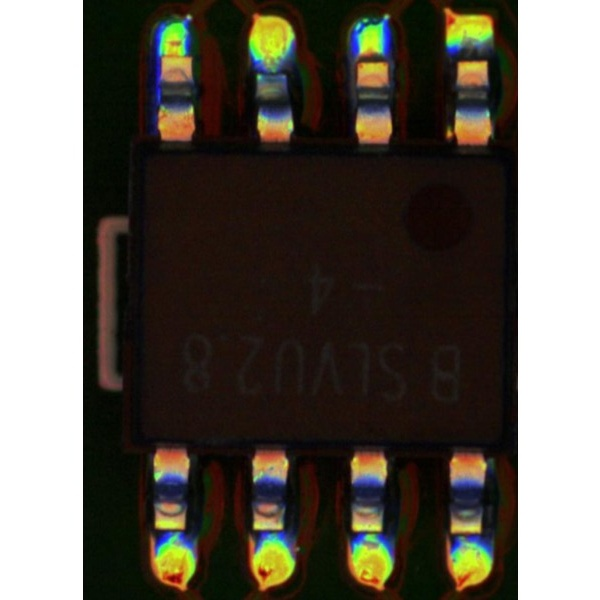Bad_podu: (358, 47, 384, 71), (165, 37, 180, 76)
